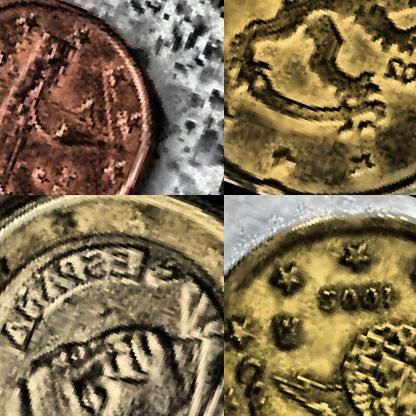coin: (0, 195, 223, 415), (224, 195, 415, 415), (224, 0, 415, 194), (0, 0, 184, 194)
